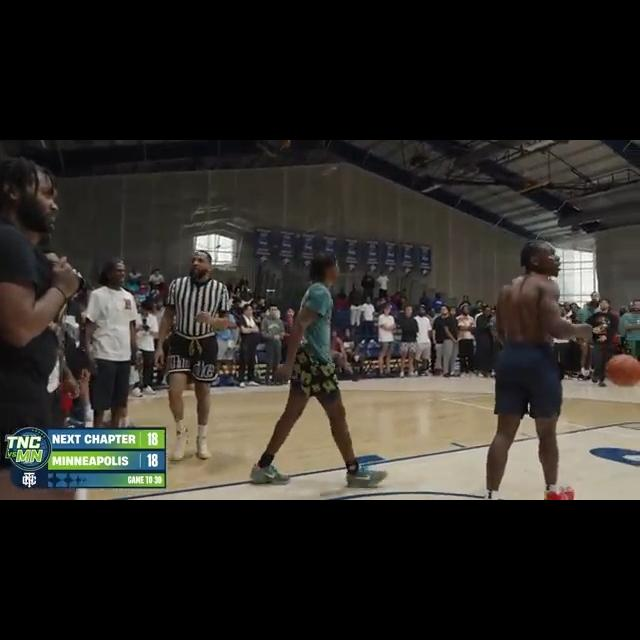basketball: (604, 353, 639, 388)
